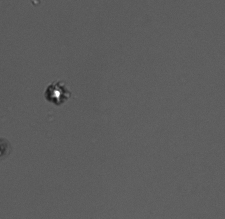Dead Cell: (1, 136, 11, 162)
Living Cell: (45, 81, 71, 105)
